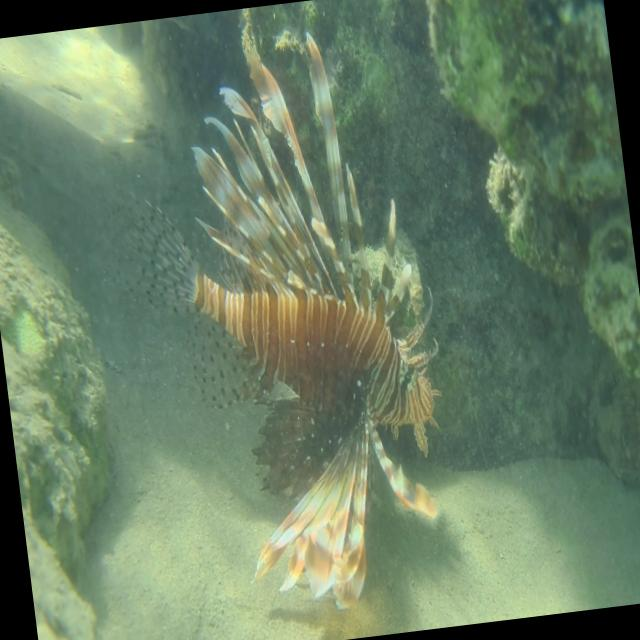Aslan Baligi: (98, 11, 471, 631)
